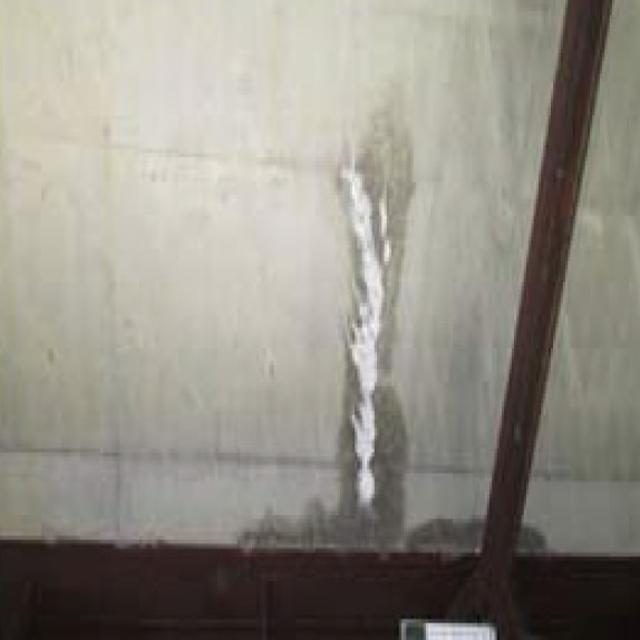freelime: (323, 160, 404, 510)
